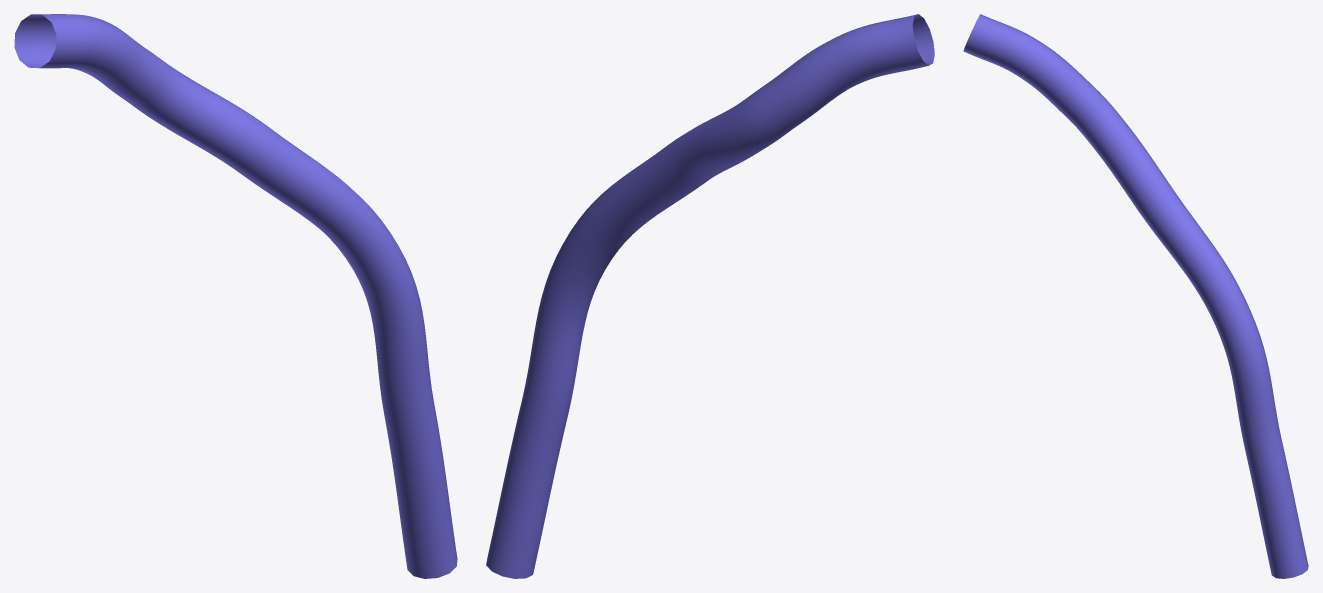
Rendered from Axillary_vein.l_BezierCurve.289.glb.
The picture shows the model from 3 angles, left to right: view 1: azimuth 30°, elevation 25°; view 2: azimuth 150°, elevation 25°; view 3: azimuth 330°, elevation 25°; orthographic projection. The views are drawn at different scales.
Parts seen in each view (by area): view 1: Axillary_vein.l_BezierCurve.289; view 2: Axillary_vein.l_BezierCurve.289; view 3: Axillary_vein.l_BezierCurve.289.
Part boxes in pixels (left/top/right/bottom): Axillary_vein.l_BezierCurve.289: left=14, top=14, right=457, bottom=578; Axillary_vein.l_BezierCurve.289: left=486, top=14, right=934, bottom=578; Axillary_vein.l_BezierCurve.289: left=963, top=14, right=1308, bottom=578.
Bounding box in the file's own units: 0.0649 × 0.0925 × 0.013.
